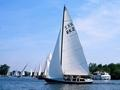fanchuan: (42, 4, 97, 85)
